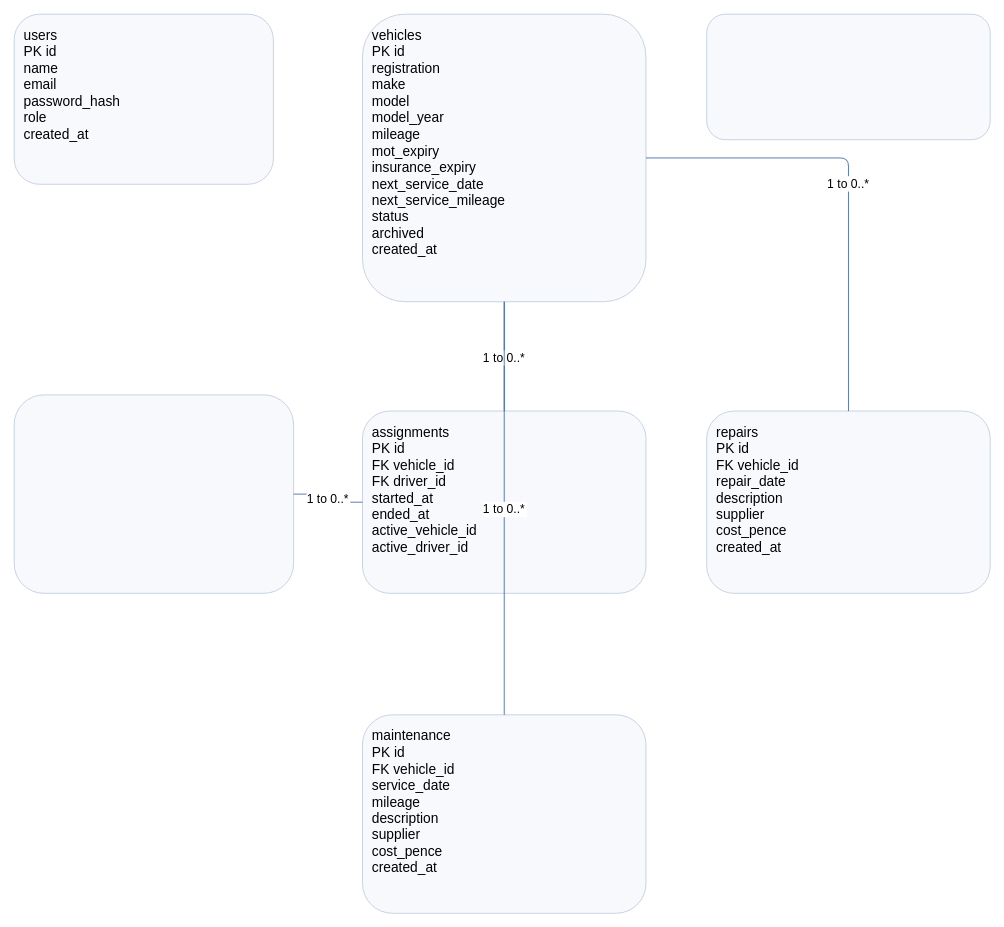
Image size: 1004x927. Some labels were removed from this diagram. Each missing label, with the box of its shape:
drivers PK id name email phone licence_number licence_expiry active created_at: (13, 394, 294, 593)
login_attempts PK email_key failures locked_until: (706, 13, 990, 140)
